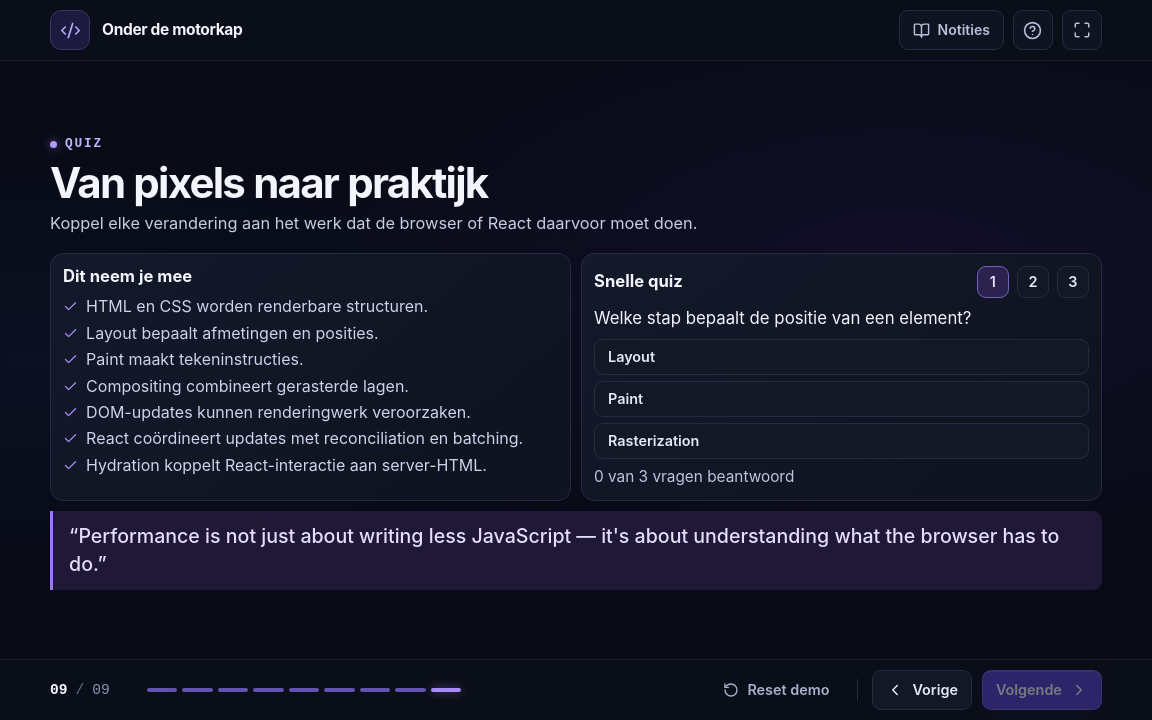
Test: presentatie › geeft quizfeedback en houdt de totaalscore bij
Click the button "Layout" at (632, 357), box left=594, top=339, right=1089, bottom=375
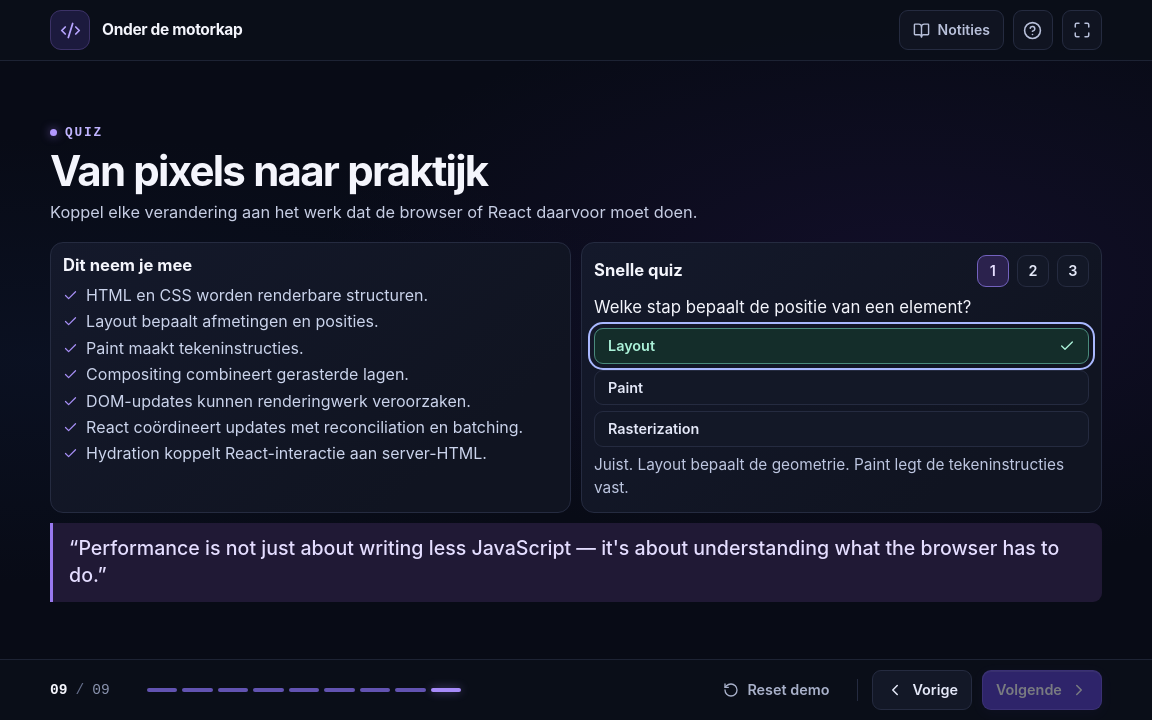
Now the text "Juist. Layout bepaalt de geometrie. Paint legt de tekeninstructies vast." is shown, box left=594, top=454, right=1089, bottom=500
Click the button named "Vraag 2" at (1033, 270), box left=1017, top=254, right=1049, bottom=286
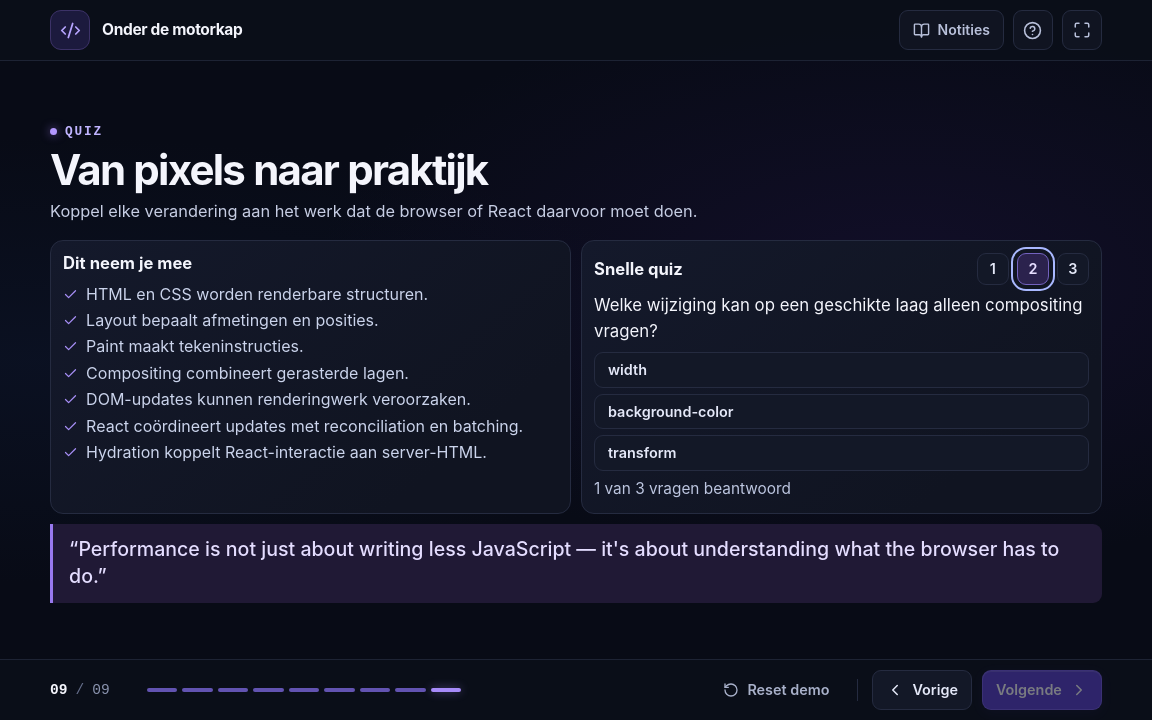
Click the button "width" at (627, 369), box left=594, top=352, right=1089, bottom=388
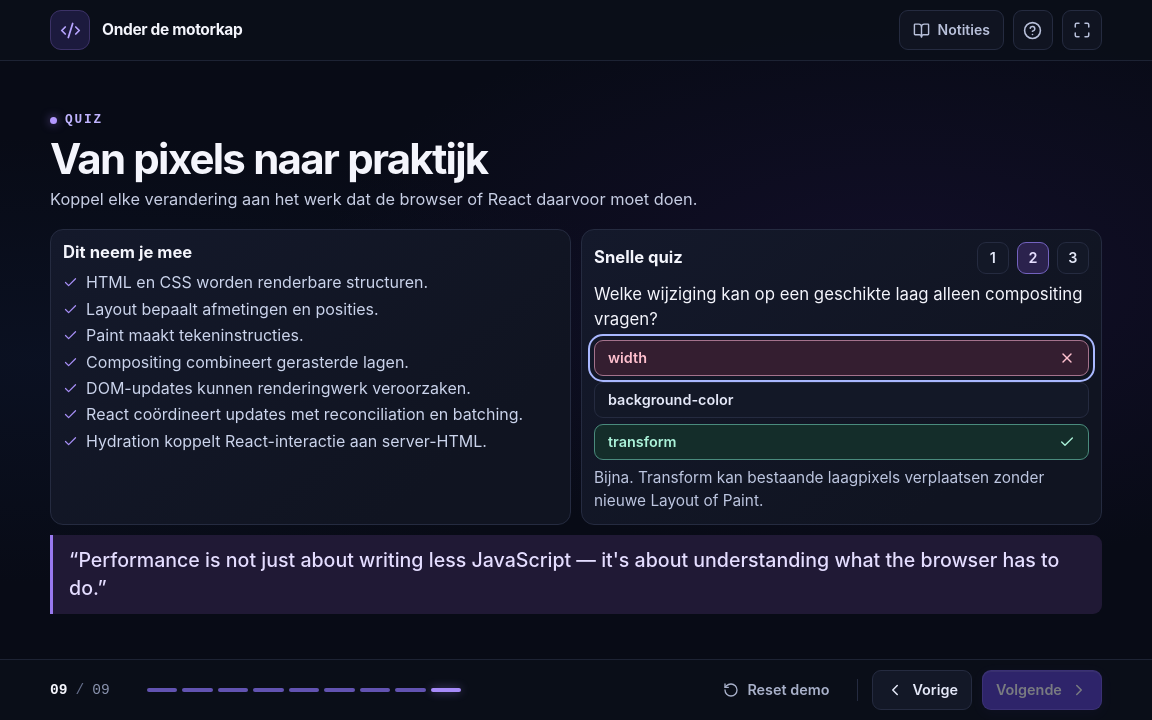
Now the text "Bijna." is shown, box left=594, top=468, right=1044, bottom=510
Click the button named "Vraag 3" at (1073, 258), box left=1057, top=242, right=1089, bottom=274
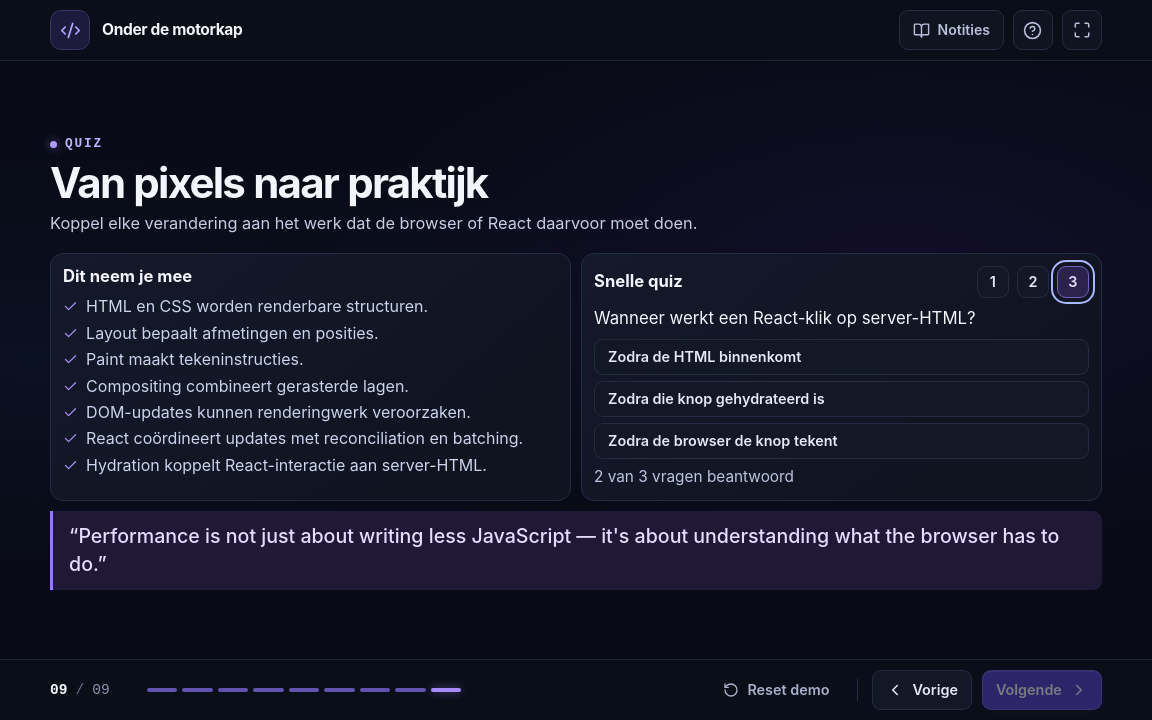
Click the button "Zodra die knop gehydrateerd is" at (716, 398), box left=594, top=381, right=1089, bottom=417
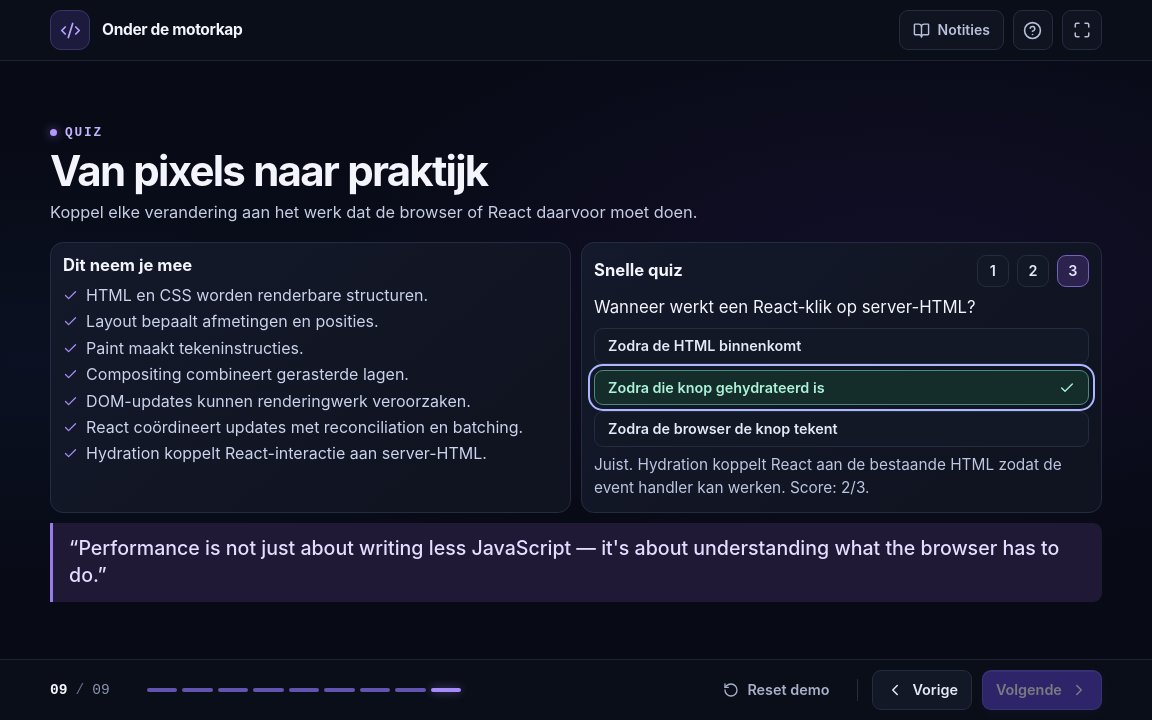
Now the text "Score: 2/3" is shown, box left=786, top=478, right=870, bottom=497
